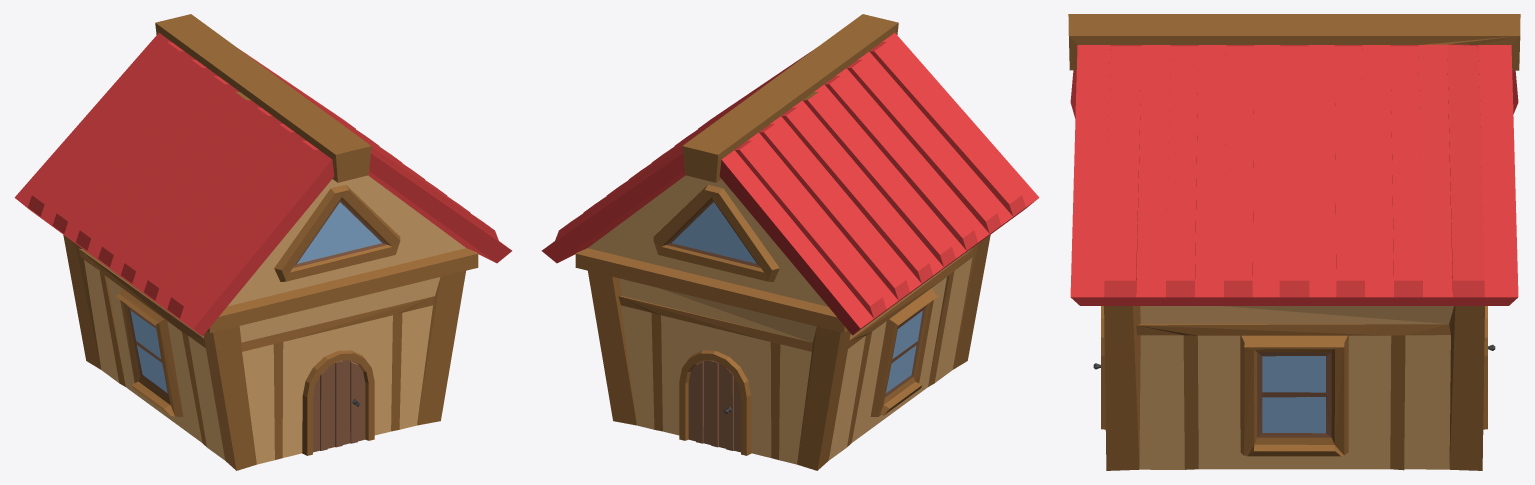
File: House.fbx
The picture shows the model from 3 angles, left to right: view 1: azimuth 30°, elevation 25°; view 2: azimuth 150°, elevation 25°; view 3: azimuth 270°, elevation 25°; orthographic projection. The views are drawn at different scales.
Visible parts, largest first — view 1: Cube.002; view 2: Cube.002; view 3: Cube.002.
Part boxes in pixels (left/top/right/bottom): Cube.002: left=14, top=14, right=511, bottom=470; Cube.002: left=541, top=14, right=1039, bottom=470; Cube.002: left=1068, top=14, right=1520, bottom=470.
Size of the model in its own units: 403 by 370 by 395.
